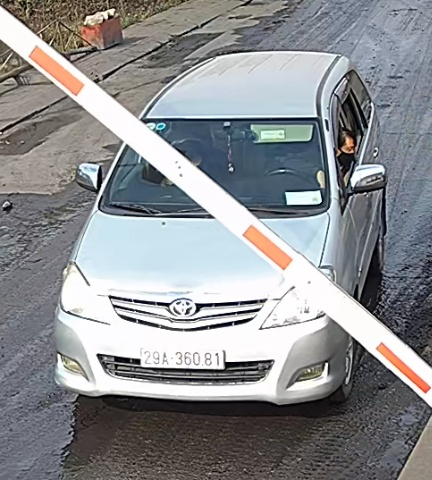vehicle plate: (134, 343, 228, 373)
